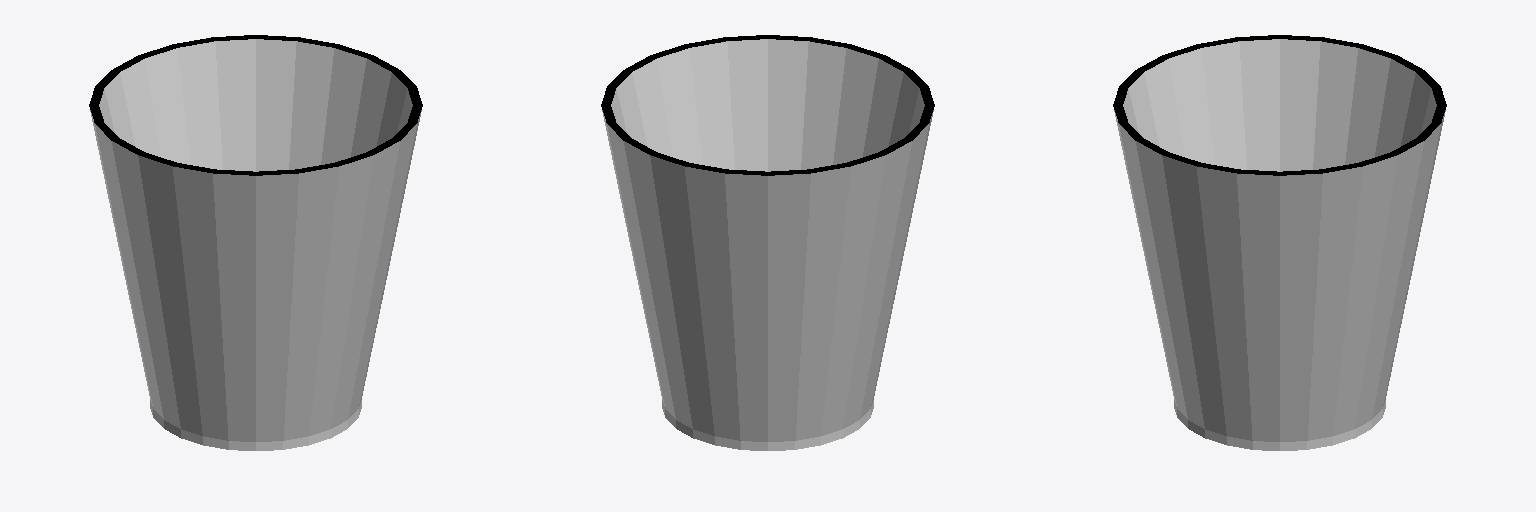
File: trashAluminio.obj
3 views of the same model, side by side, from view 1: azimuth 30°, elevation 25°; view 2: azimuth 150°, elevation 25°; view 3: azimuth 270°, elevation 25° (orthographic).
Parts seen in each view (by area): view 1: Mesh1 Model; view 2: Mesh1 Model; view 3: Mesh1 Model.
Part boxes in pixels (x1,y1,x2,y2): Mesh1 Model: (89,35,422,450); Mesh1 Model: (601,35,934,450); Mesh1 Model: (1113,35,1446,450).
Size of the model in its own units: 1 by 0.996 by 1.